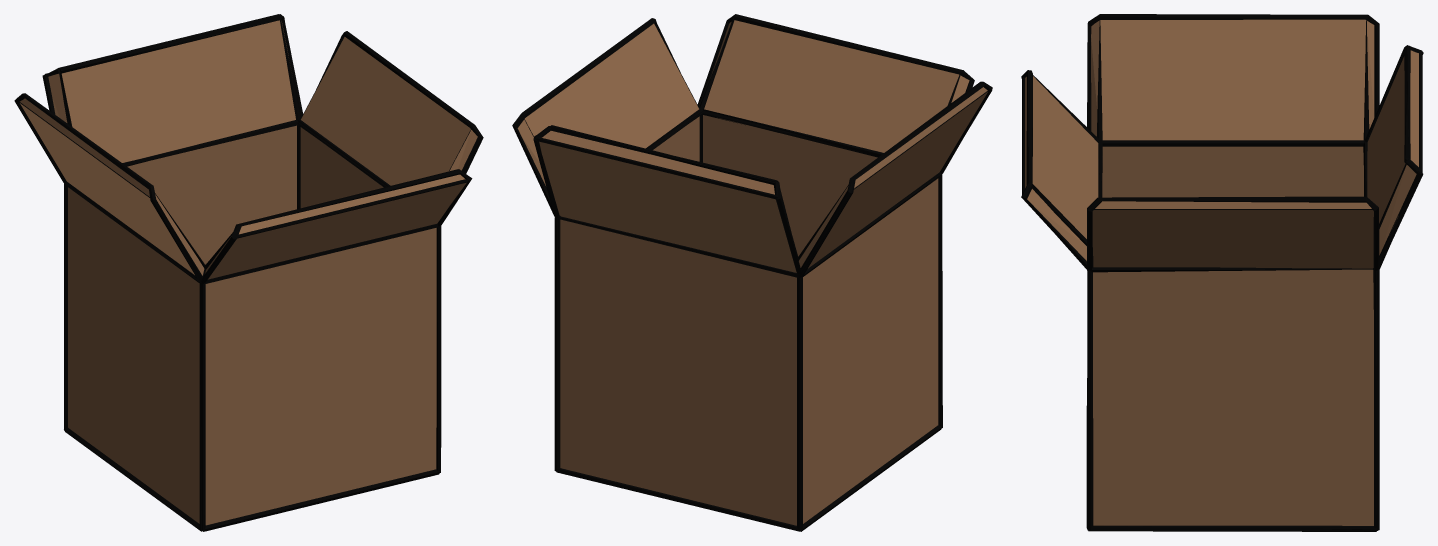
The model's file is CardboardBox_Open.fbx.
3 views of the same model, side by side, from view 1: azimuth 30°, elevation 25°; view 2: azimuth 150°, elevation 25°; view 3: azimuth 270°, elevation 25° (orthographic). The views are drawn at different scales.
Parts seen in each view (by area): view 1: pCube3, Main; view 2: pCube3, Main; view 3: pCube3, Main.
Boxes of the visible parts, left/top/right/bottom form: pCube3: left=20, top=20, right=477, bottom=525; Main: left=14, top=14, right=483, bottom=531; pCube3: left=517, top=20, right=987, bottom=525; Main: left=512, top=14, right=992, bottom=531; pCube3: left=1025, top=19, right=1418, bottom=525; Main: left=1021, top=14, right=1423, bottom=531.
Bounding box in the file's own units: 6 × 6.11 × 6.
